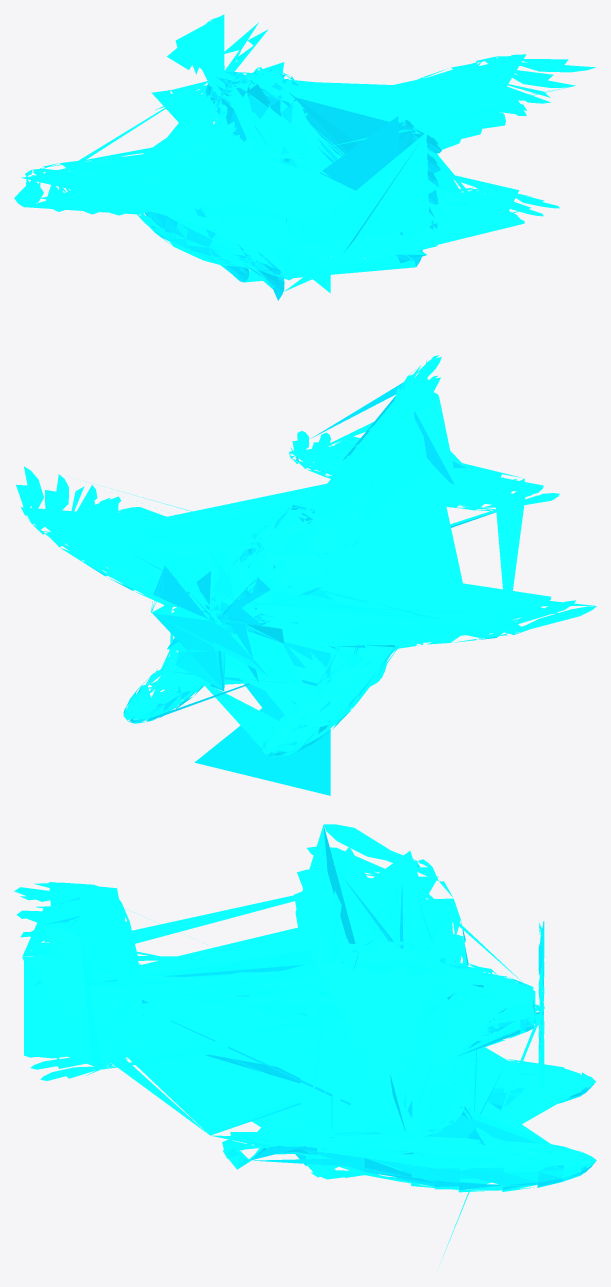
The model's file is PXAS007.glb.
3 renders of one model, top to bottom at view 1: azimuth 30°, elevation 25°; view 2: azimuth 150°, elevation 25°; view 3: azimuth 270°, elevation 25°, orthographic. The views are drawn at different scales.
Visible parts, largest first — view 1: misc; view 2: misc; view 3: misc.
Boxes of the visible parts, x1,y1,x2,y2 form: misc: [14, 14, 595, 300]; misc: [16, 355, 596, 795]; misc: [14, 824, 596, 1263].
Bounding box in the file's own units: 0.9629 × 0.4791 × 0.7196.
